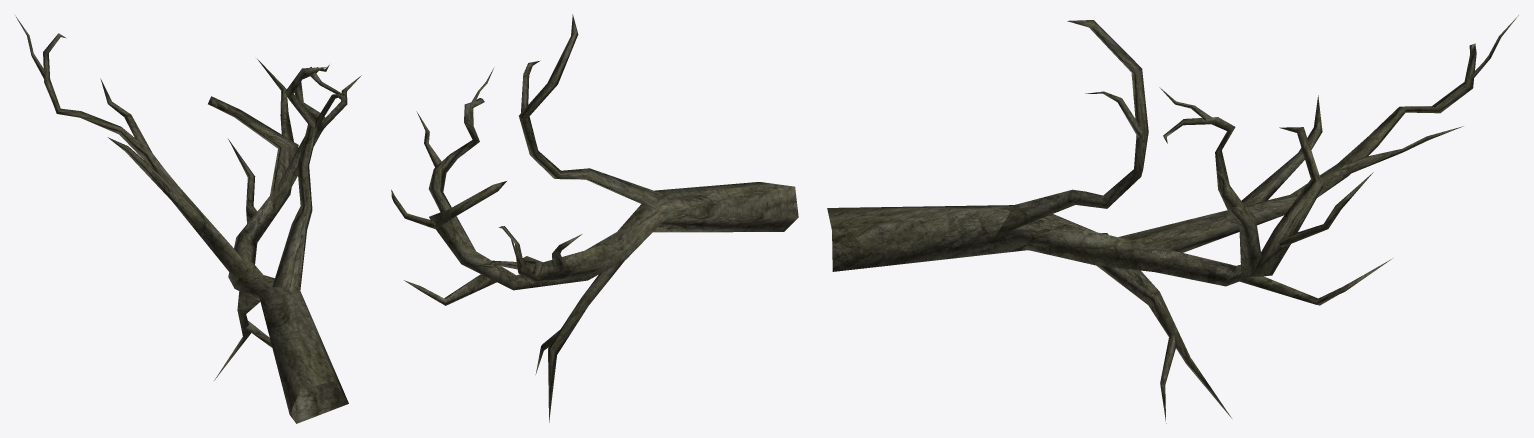
Rendered from TI_Old_Tree_Branch_09.fbx.
3 views of the same model, side by side, from view 1: azimuth 30°, elevation 25°; view 2: azimuth 150°, elevation 25°; view 3: azimuth 270°, elevation 25° (orthographic). The views are drawn at different scales.
Visible parts, largest first — view 1: TI_Old_Tree_Branch_09; view 2: TI_Old_Tree_Branch_09; view 3: TI_Old_Tree_Branch_09.
Part boxes in pixels (left/top/right/bottom): TI_Old_Tree_Branch_09: left=15, top=15, right=361, bottom=423; TI_Old_Tree_Branch_09: left=391, top=14, right=798, bottom=422; TI_Old_Tree_Branch_09: left=827, top=15, right=1518, bottom=423.
Size of the model in its own units: 5.14 by 7.54 by 11.11.
